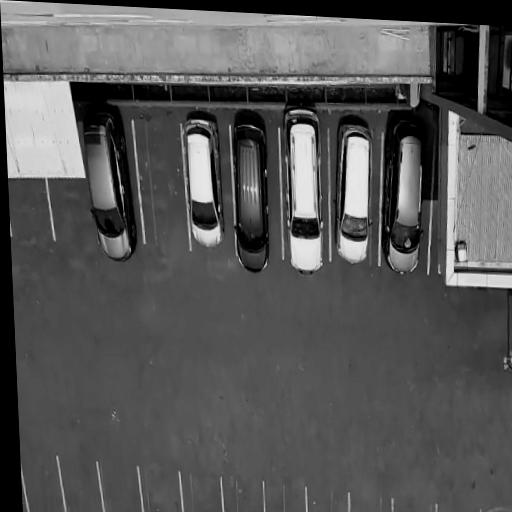Car: (80, 106, 143, 267), (275, 100, 329, 286), (375, 111, 431, 288), (226, 108, 274, 285), (326, 114, 379, 269), (178, 103, 229, 253)
Space Available: (137, 118, 189, 251), (50, 174, 95, 248), (8, 183, 48, 248), (25, 460, 61, 512), (63, 465, 101, 512), (141, 471, 181, 512), (103, 468, 140, 512), (182, 474, 222, 512), (224, 482, 263, 512), (266, 487, 306, 512), (308, 491, 347, 512), (351, 495, 389, 512), (394, 500, 435, 512), (438, 505, 479, 512), (481, 508, 512, 512)
